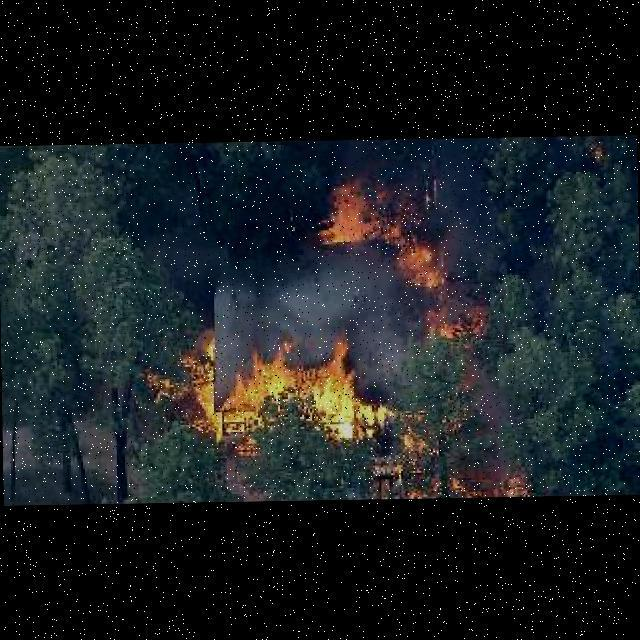Fire: (197, 345, 393, 440), (320, 180, 446, 284), (407, 459, 528, 497), (416, 301, 485, 342)
Smoke: (218, 279, 415, 358), (455, 357, 518, 442), (357, 357, 428, 404)
